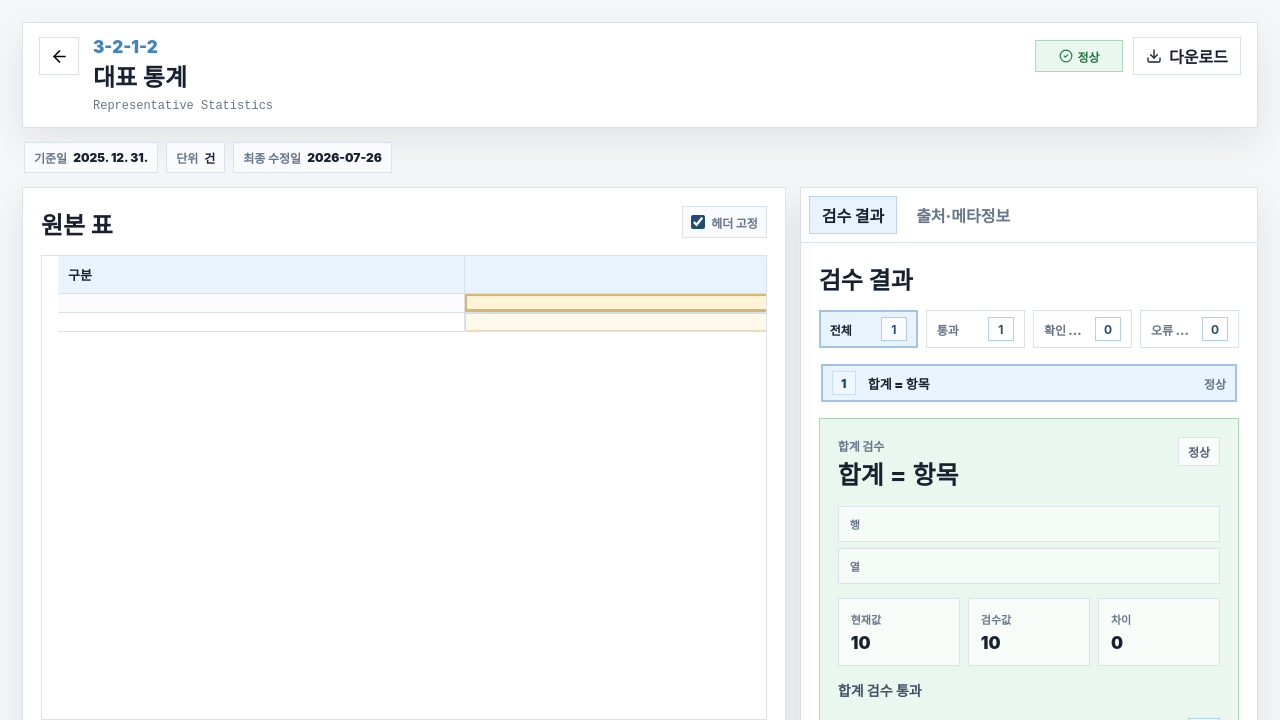
Scenario: DetailView validation baseline › keeps an empty status filter empty instead of showing another result
Click the button "확인 필요 0": click(1082, 329) top-left (1033, 310), bottom-right (1132, 348)
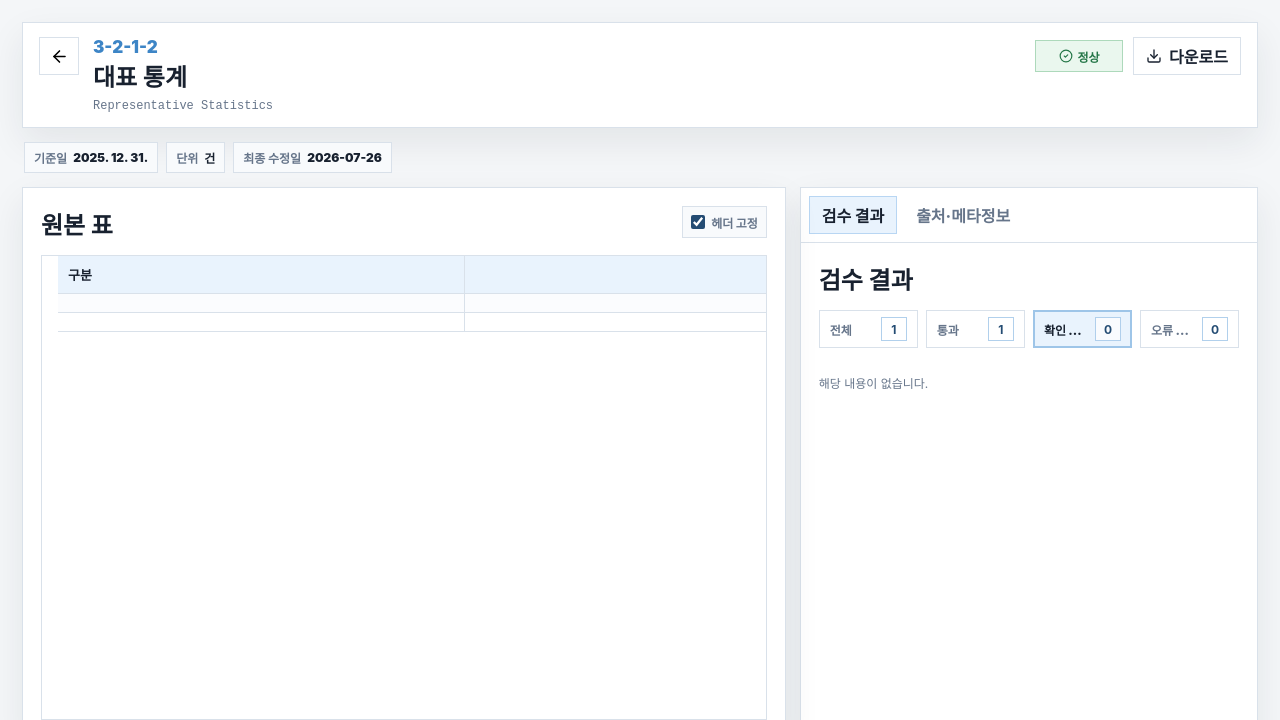
Now the text "해당 내용이 없습니다." is shown, box top-left (819, 376), bottom-right (928, 391)
Click the button "통과 1": click(975, 329) top-left (926, 310), bottom-right (1025, 348)
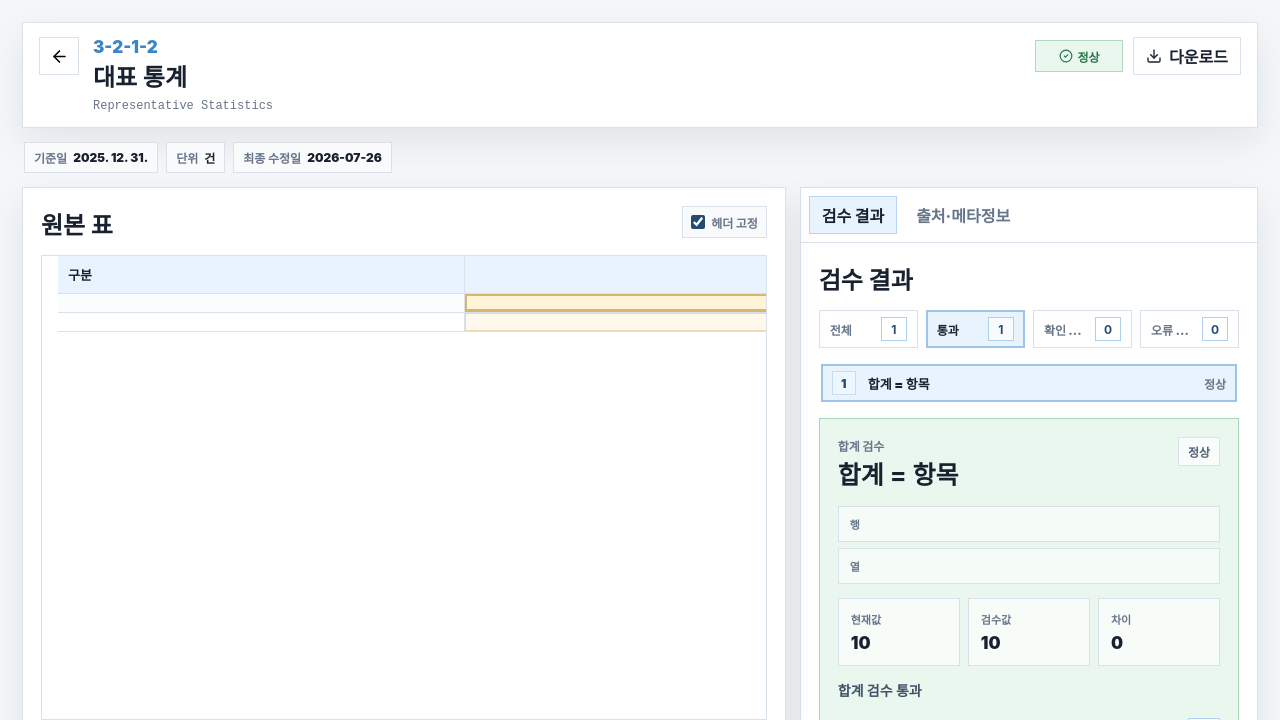
Now the text "합계 = 항목" is shown, box top-left (868, 376), bottom-right (930, 392)
